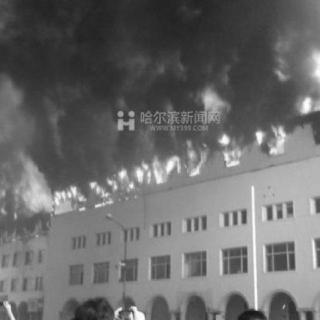Smoke: (14, 9, 306, 120)
